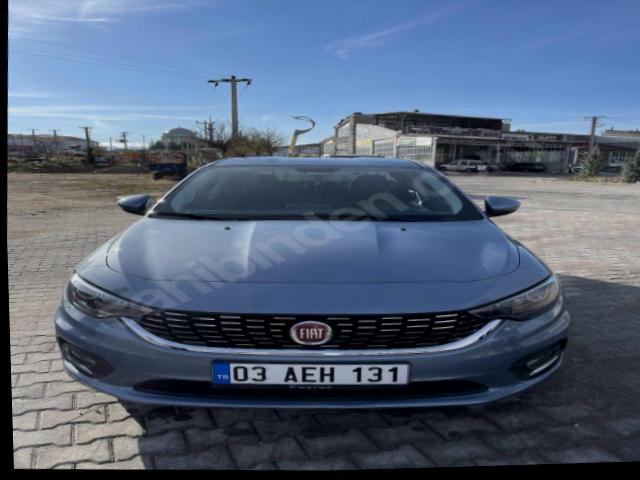plaka: (212, 364, 410, 386)
